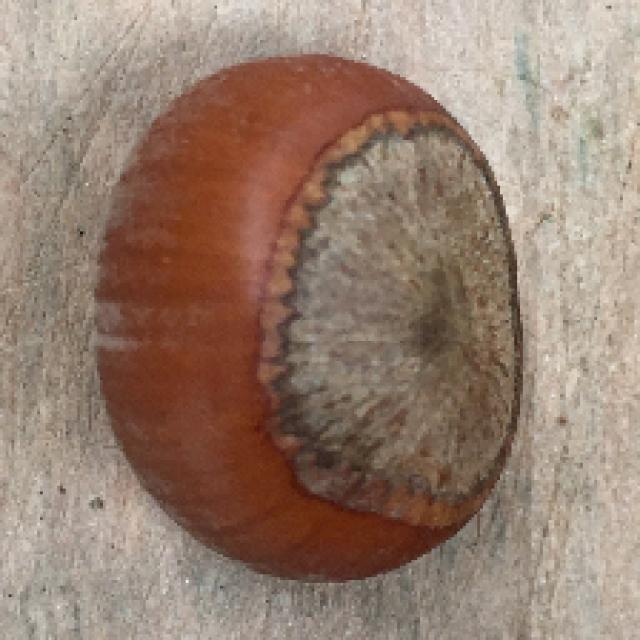qualityHazelnut: (88, 54, 533, 584)
